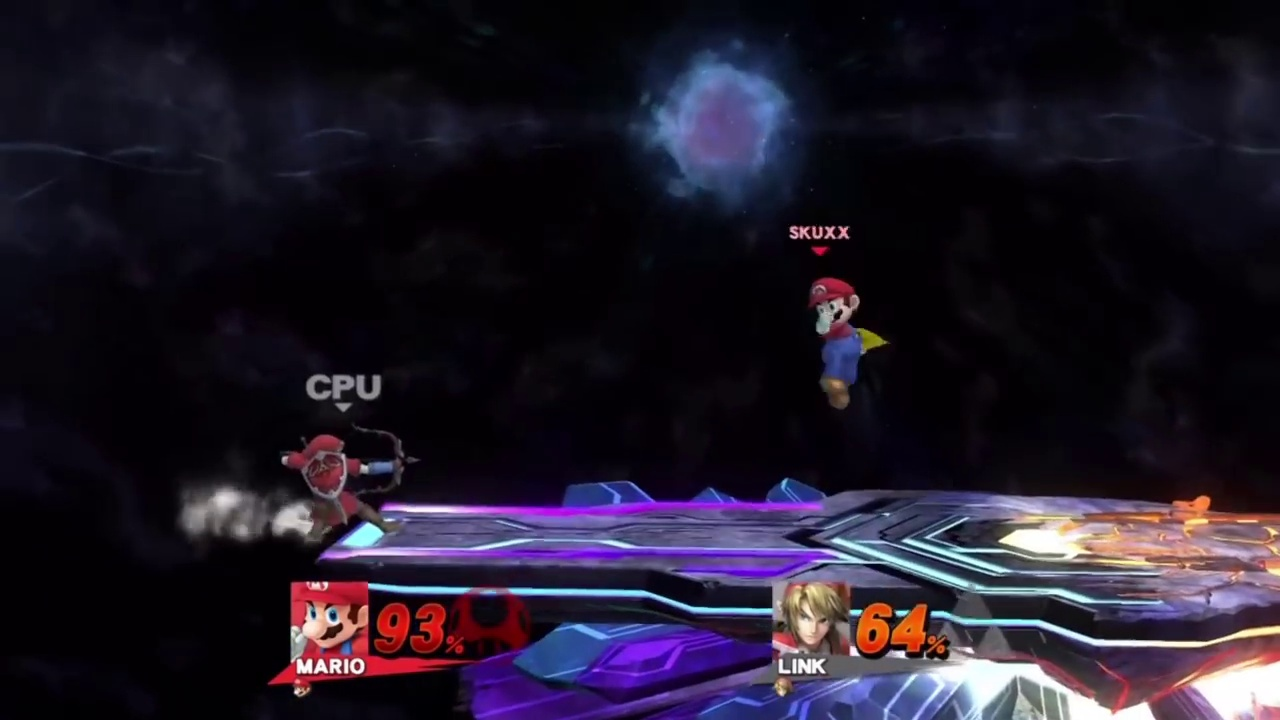Mario: (807, 278, 891, 413)
